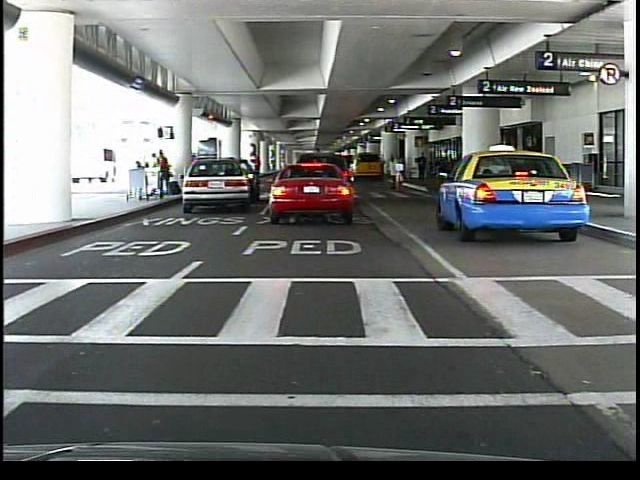person: (248, 152, 266, 200), (311, 153, 326, 202), (159, 147, 173, 197), (388, 151, 402, 189), (296, 164, 308, 202), (415, 150, 428, 184)
